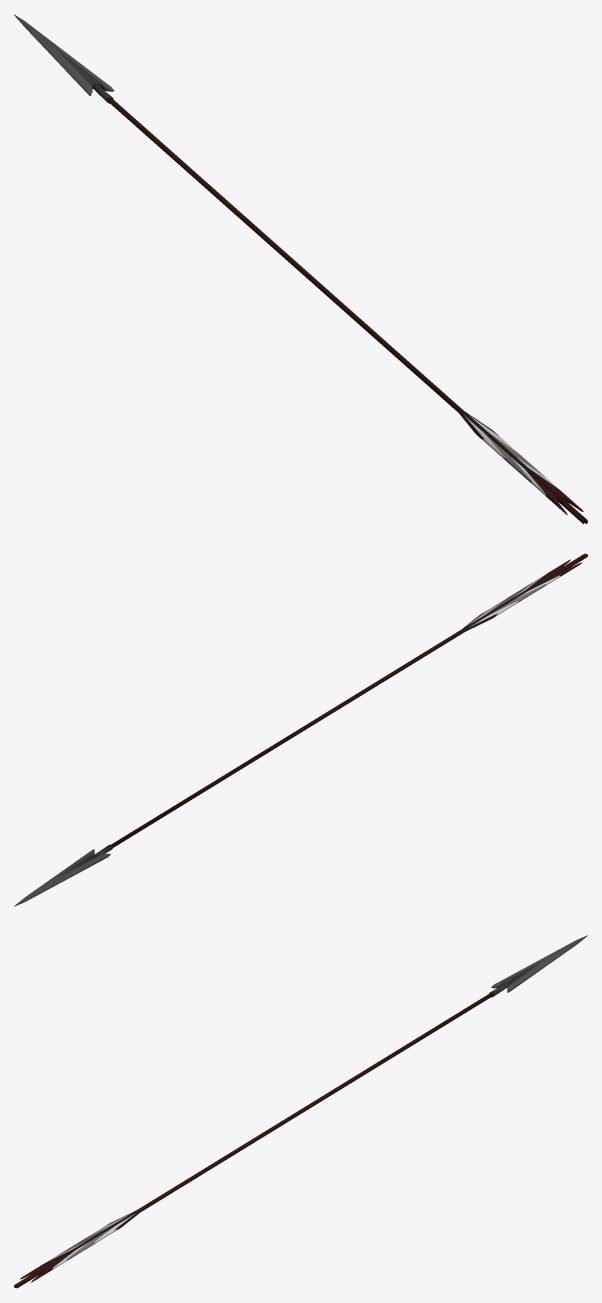
The model's file is Arrow.fbx.
3 views of the same model, one above another, from view 1: azimuth 30°, elevation 25°; view 2: azimuth 150°, elevation 25°; view 3: azimuth 330°, elevation 25° (orthographic). The views are drawn at different scales.
Visible parts, largest first — view 1: Object_2.002; view 2: Object_2.002; view 3: Object_2.002.
Part boxes in pixels (x1,y1,x2,y2): Object_2.002: (14,14,587,524); Object_2.002: (14,553,587,906); Object_2.002: (14,935,587,1288).
Size of the model in its own units: 12.61 by 0.8194 by 149.
